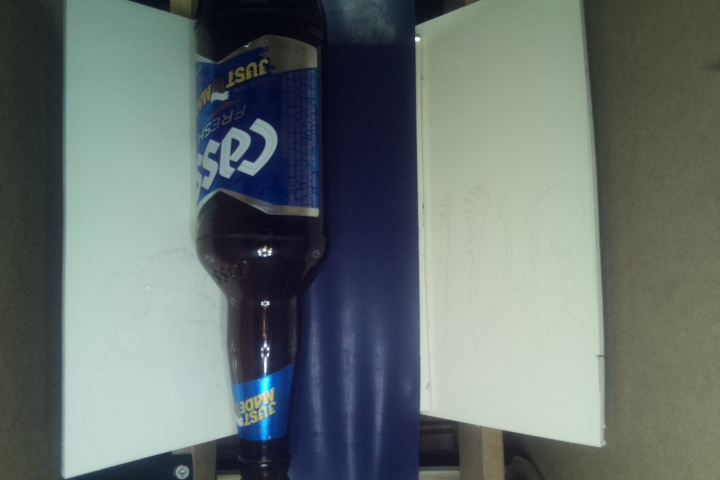makju: (185, 1, 330, 480)
